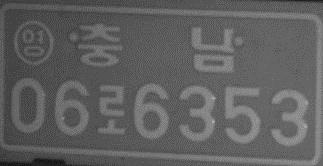0: (9, 77, 48, 133)
3: (269, 87, 310, 148), (177, 84, 216, 142)
5: (224, 85, 261, 146)
6: (53, 76, 91, 138), (133, 82, 170, 139)
로: (97, 84, 127, 136)
영: (13, 19, 54, 66)
충남_D: (75, 22, 236, 73)
